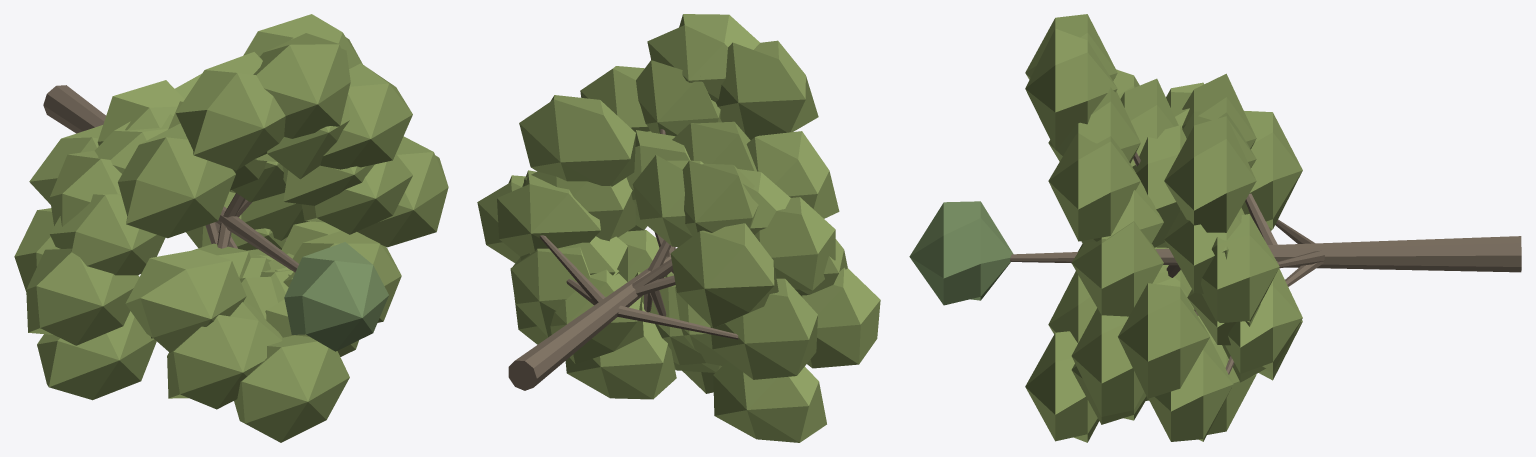
File: tree-ginkgo.glb
3 views of the same model, side by side, from view 1: azimuth 30°, elevation 25°; view 2: azimuth 150°, elevation 25°; view 3: azimuth 270°, elevation 25° (orthographic). The views are drawn at different scales.
Visible parts, largest first — view 1: stem; view 2: stem; view 3: stem.
Boxes of the visible parts, x1,y1,x2,y2 form: stem: (14, 14, 448, 442); stem: (477, 14, 880, 442); stem: (909, 14, 1521, 442).
Bounding box in the file's own units: 7.5 × 6.84 × 9.26.
